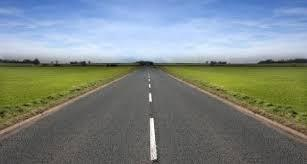field: (161, 65, 306, 134)
road: (0, 67, 306, 163)
